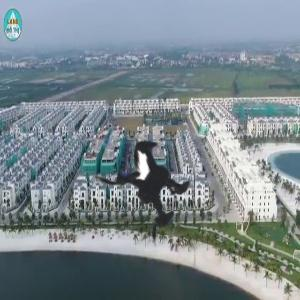drone: (61, 85, 259, 283)
